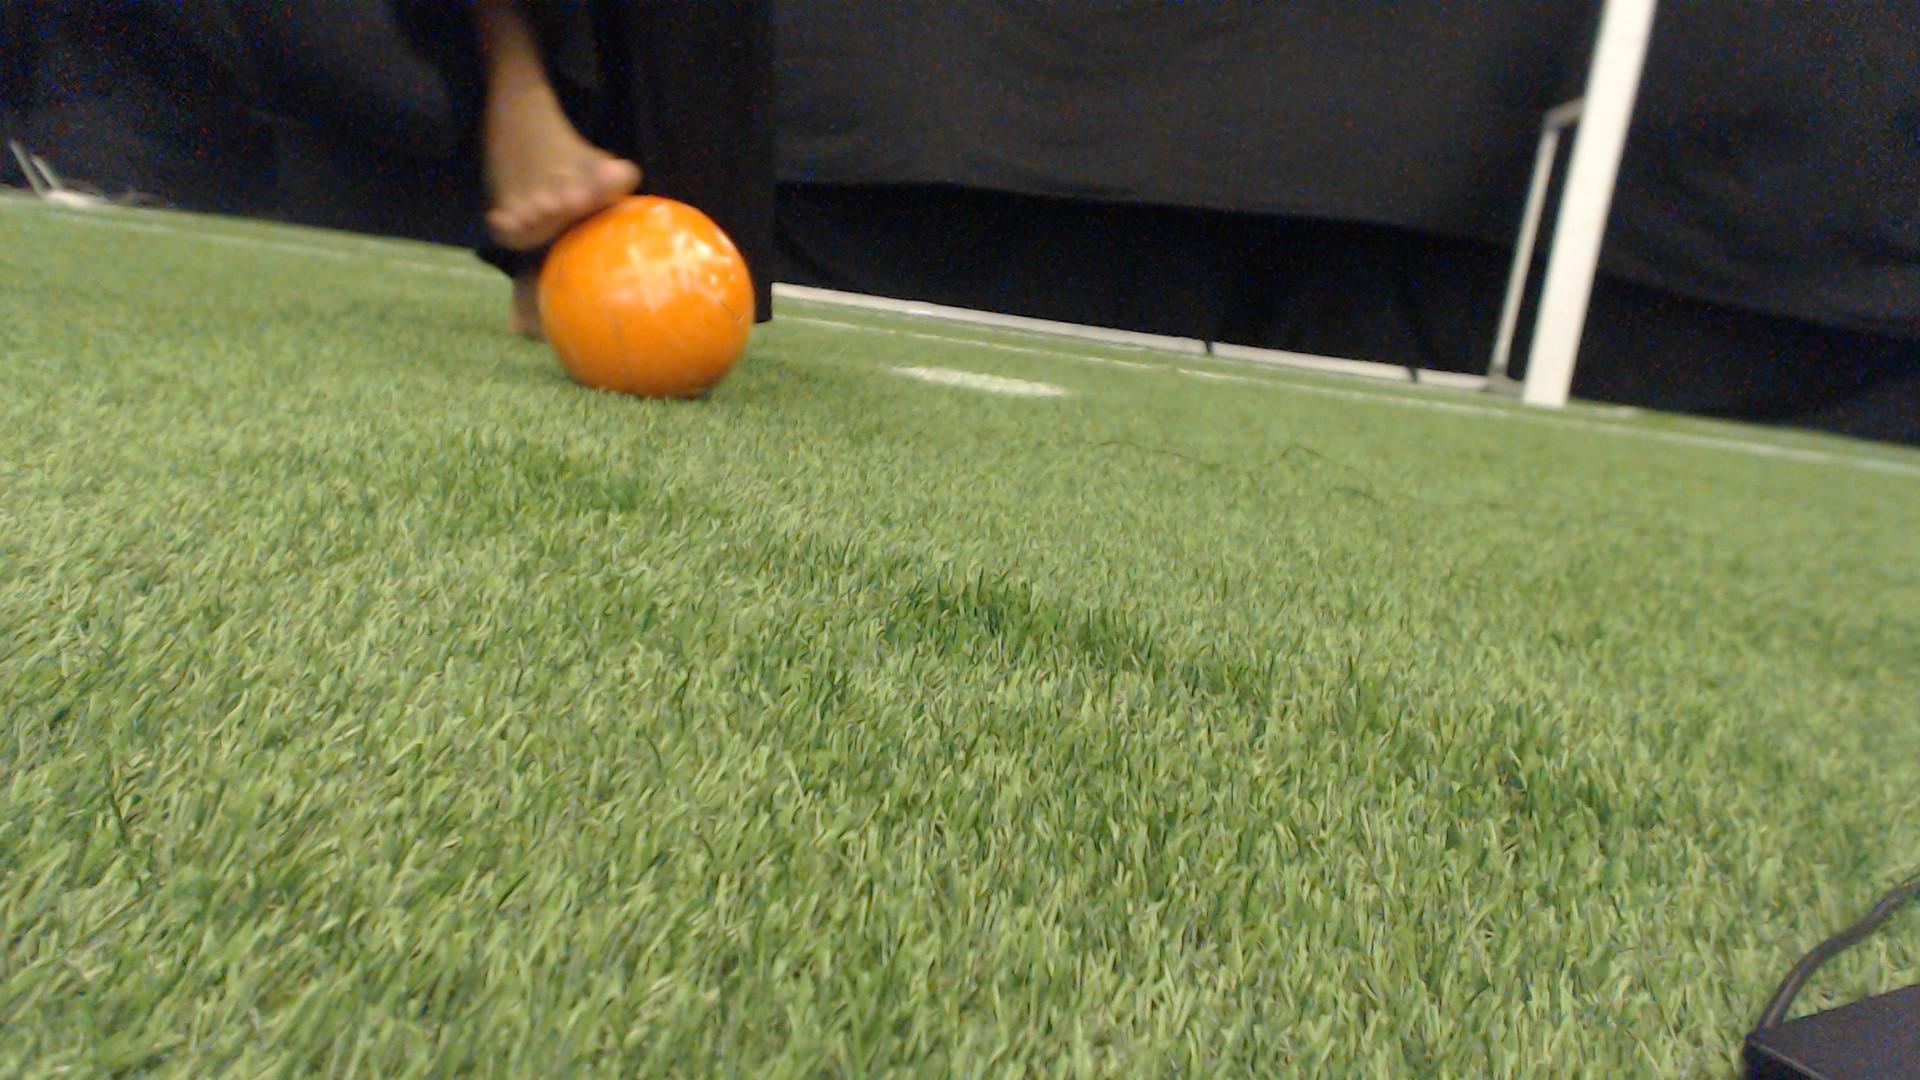bola: (525, 175, 761, 401)
